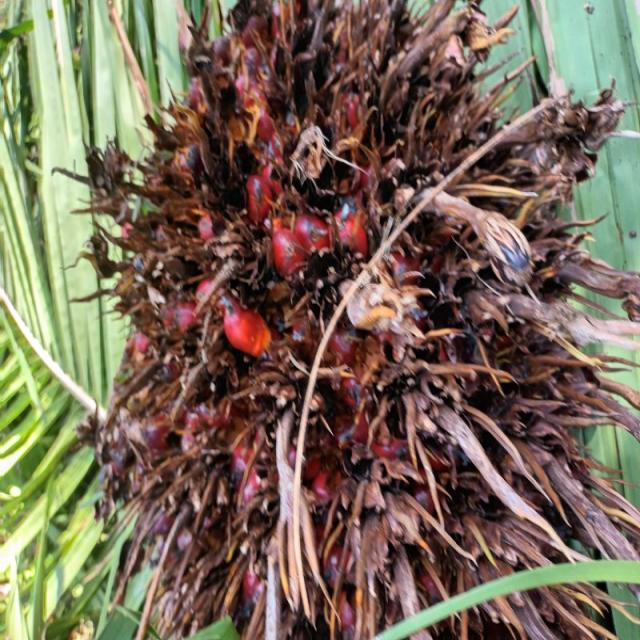fraksi 1: (18, 79, 467, 640)
